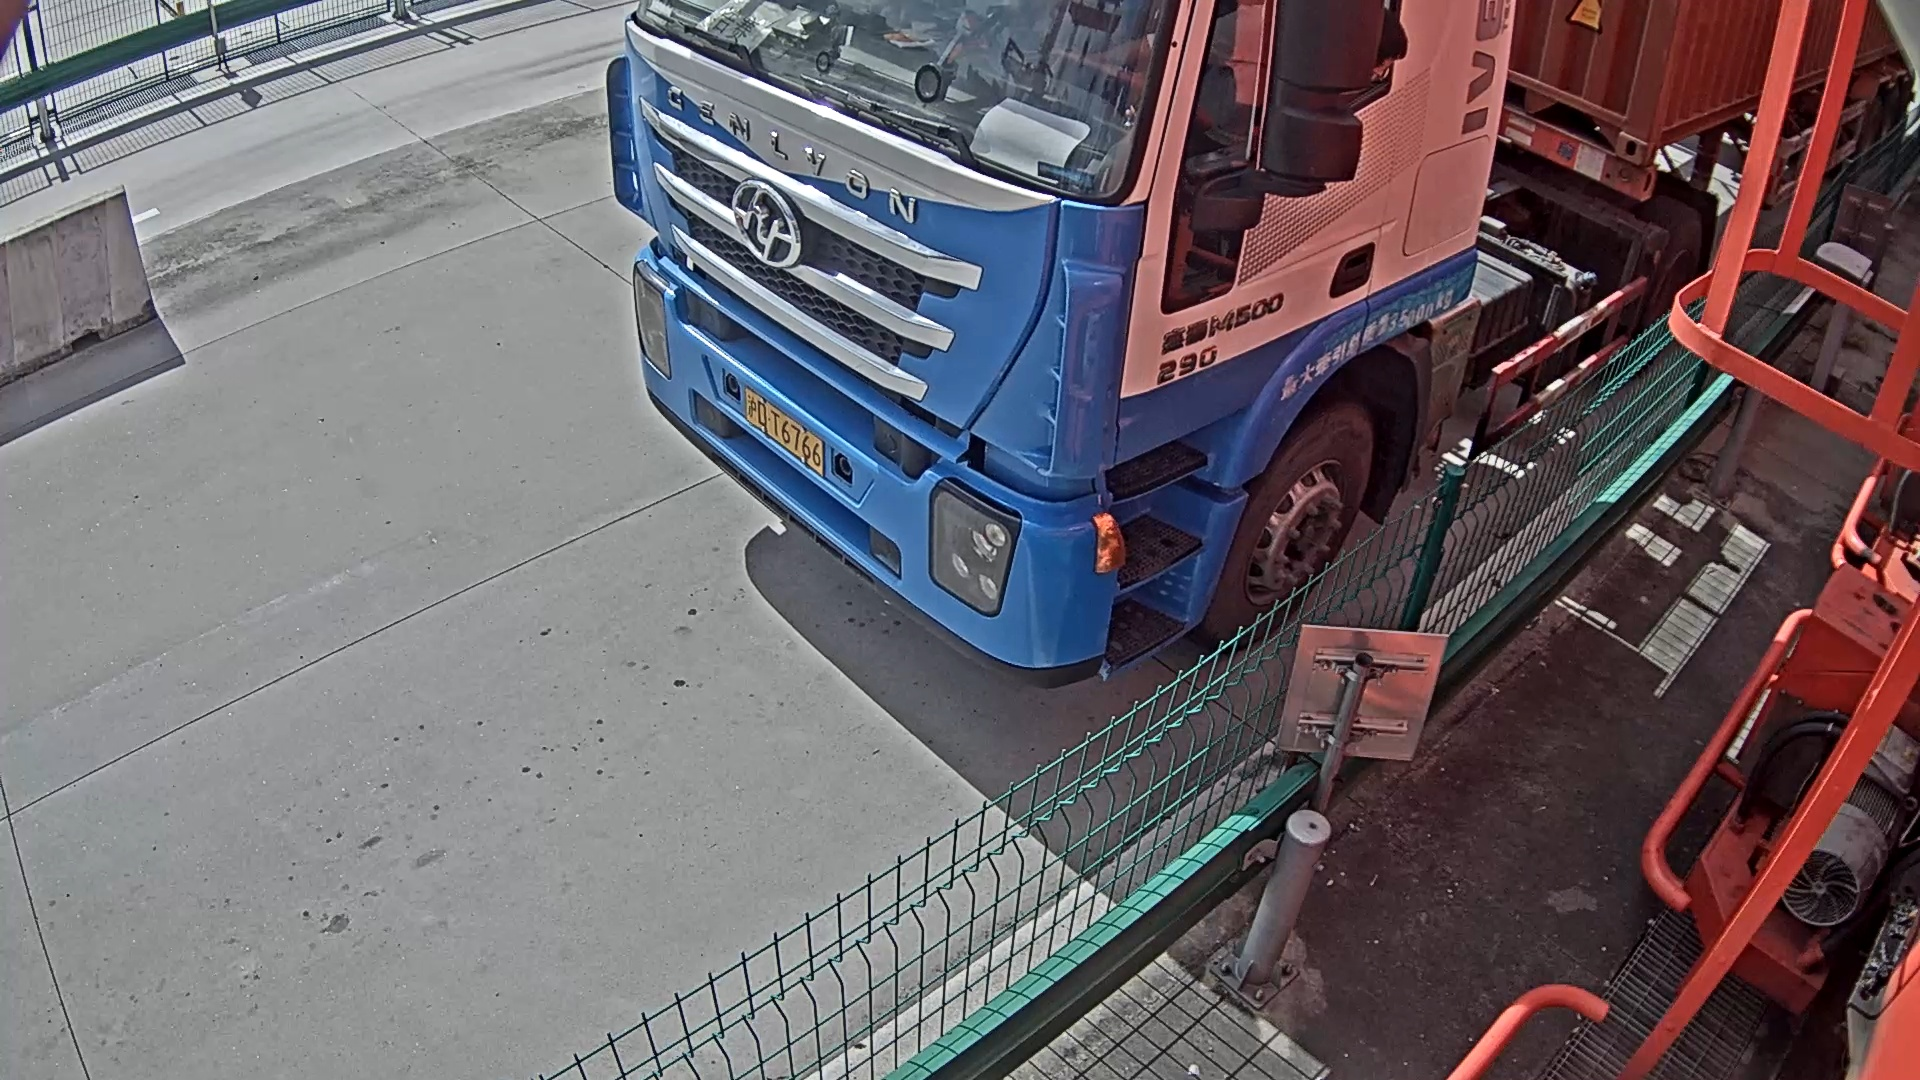head: (610, 1, 1506, 672)
plate: (742, 395, 824, 476)
